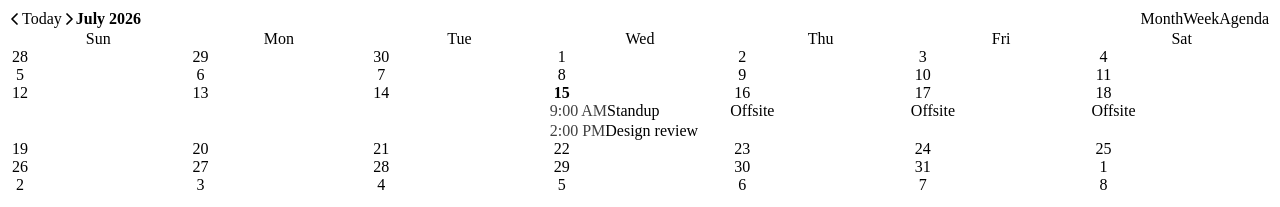
Test: CalendarView › pages back a month
Click the button named "Previous period". click: point(15, 19)
box: [8, 12, 22, 26]
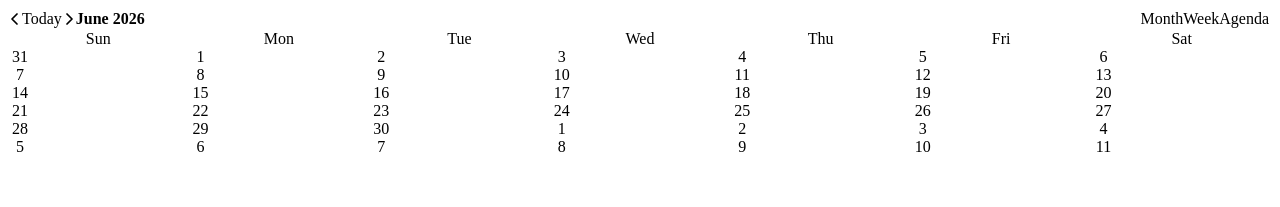
Now the heading shows "June", box [76, 10, 145, 27]
